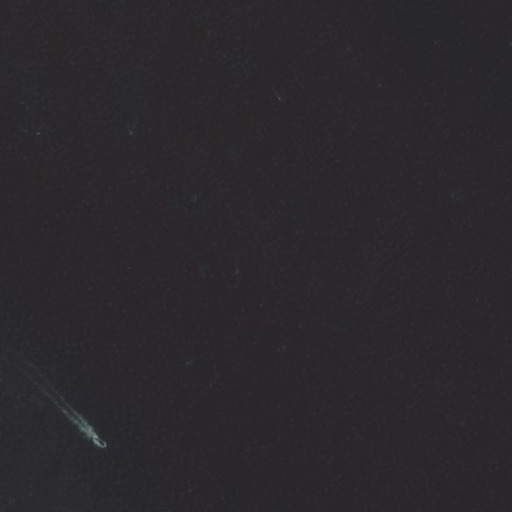ship: (86, 431, 110, 451)
